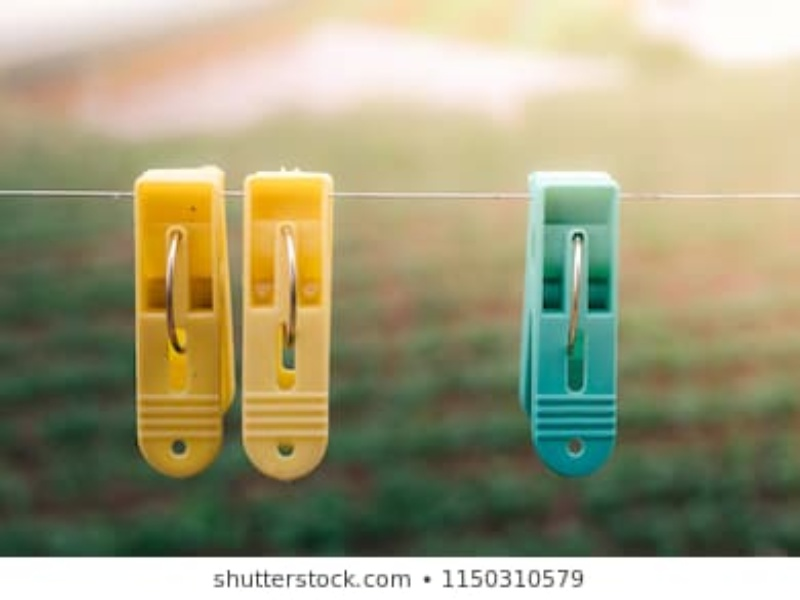plastic-peg: (124, 159, 229, 480), (232, 167, 338, 484), (518, 166, 624, 478)
